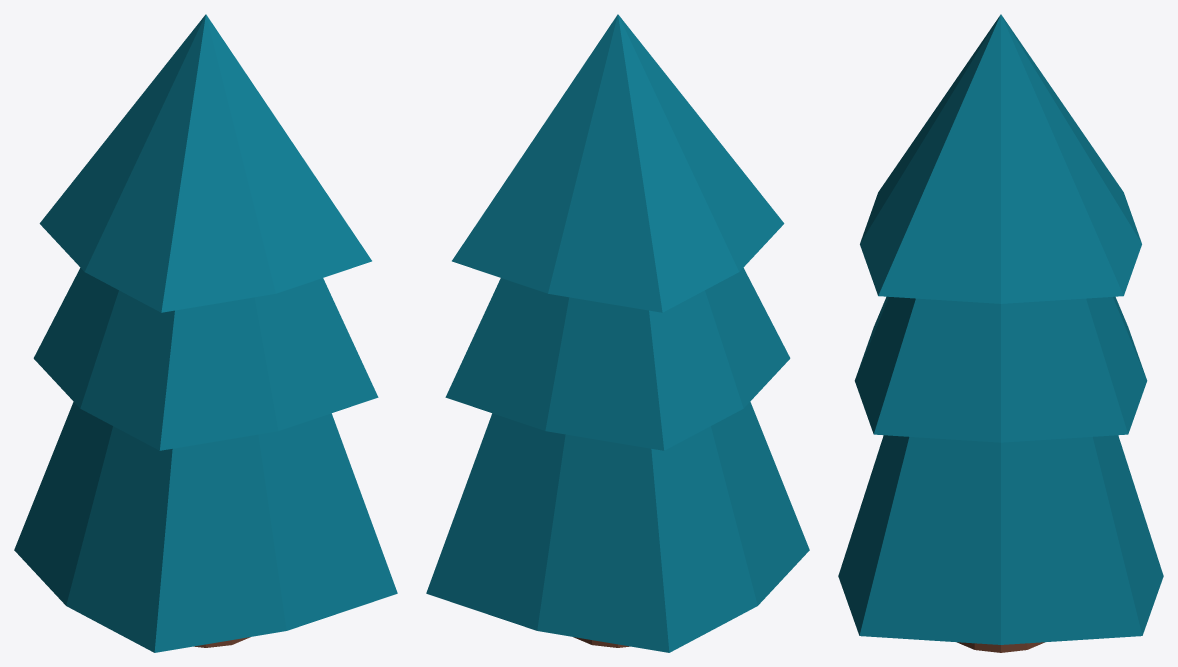
The model's file is Tree_23_summer_blue_vc.fbx.
3 views of the same model, side by side, from view 1: azimuth 30°, elevation 25°; view 2: azimuth 150°, elevation 25°; view 3: azimuth 270°, elevation 25° (orthographic).
Visible parts, largest first — view 1: Tree_23_summer_blue_vc; view 2: Tree_23_summer_blue_vc; view 3: Tree_23_summer_blue_vc.
Part boxes in pixels (x1,y1,x2,y2): Tree_23_summer_blue_vc: [14, 14, 397, 652]; Tree_23_summer_blue_vc: [426, 14, 809, 652]; Tree_23_summer_blue_vc: [838, 14, 1163, 652].
Size of the model in its own units: 90.1 by 188 by 90.1.
